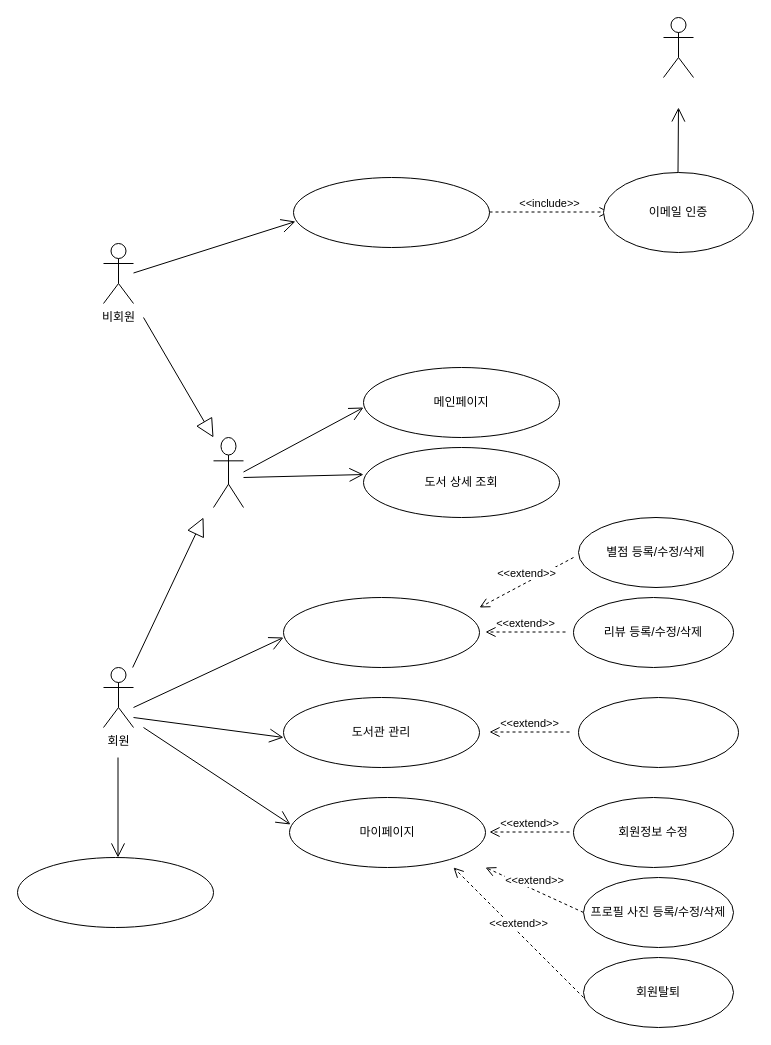
Some shapes in this 771 by 1045 pixel diagram are drawn without their labels. The shapes that lost their labels are listed below. From the top down, each one's box as (x1, y1, x2, y2) in pixels, then its label:
(662, 16, 694, 78): 이메일 시스템
(292, 176, 490, 248): 회원가입
(212, 436, 244, 508): 사용자
(282, 596, 480, 668): 리뷰 조회
(578, 696, 738, 768): 도서관 등록/삭제
(16, 856, 214, 928): 로그인
